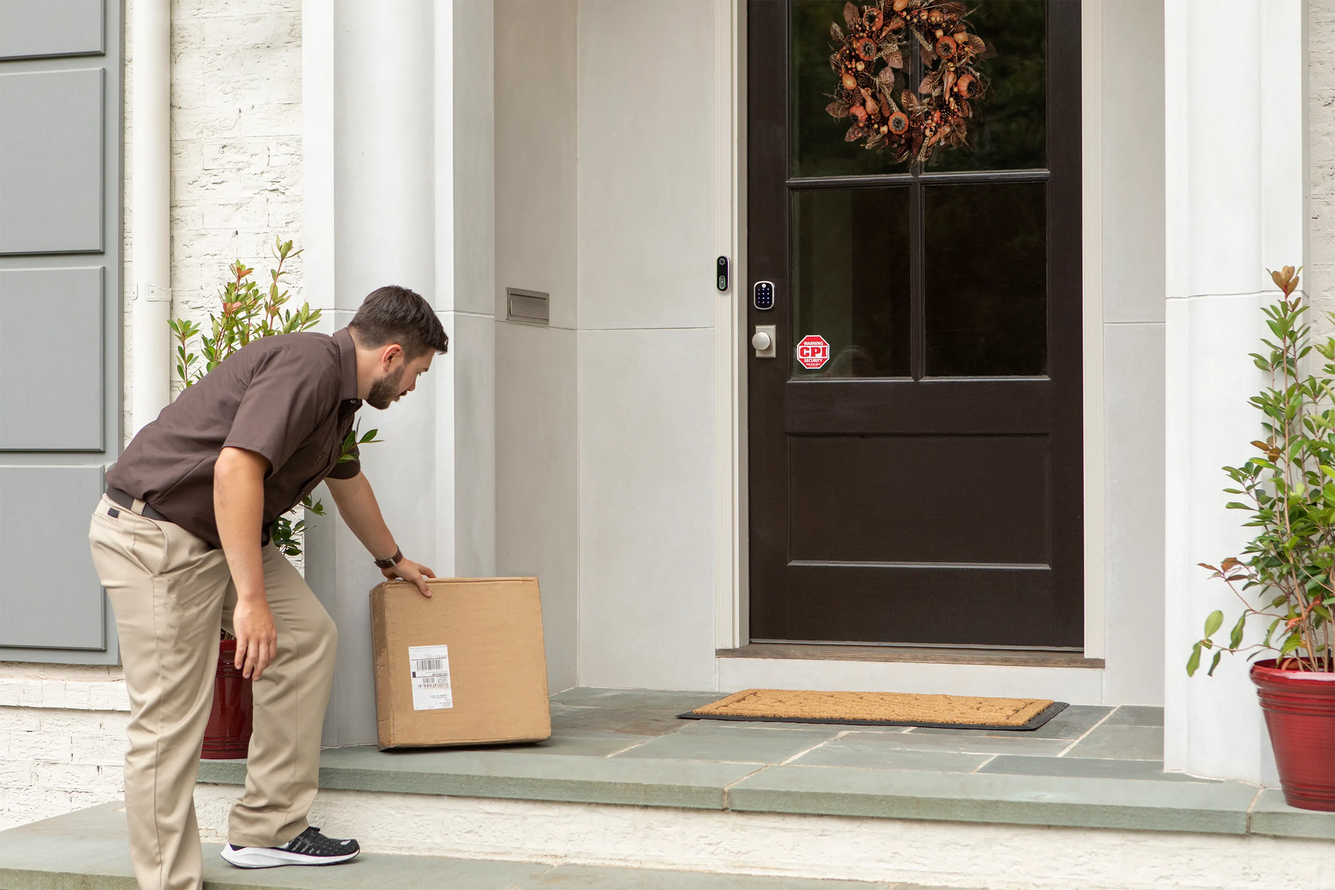package: (355, 560, 572, 777)
